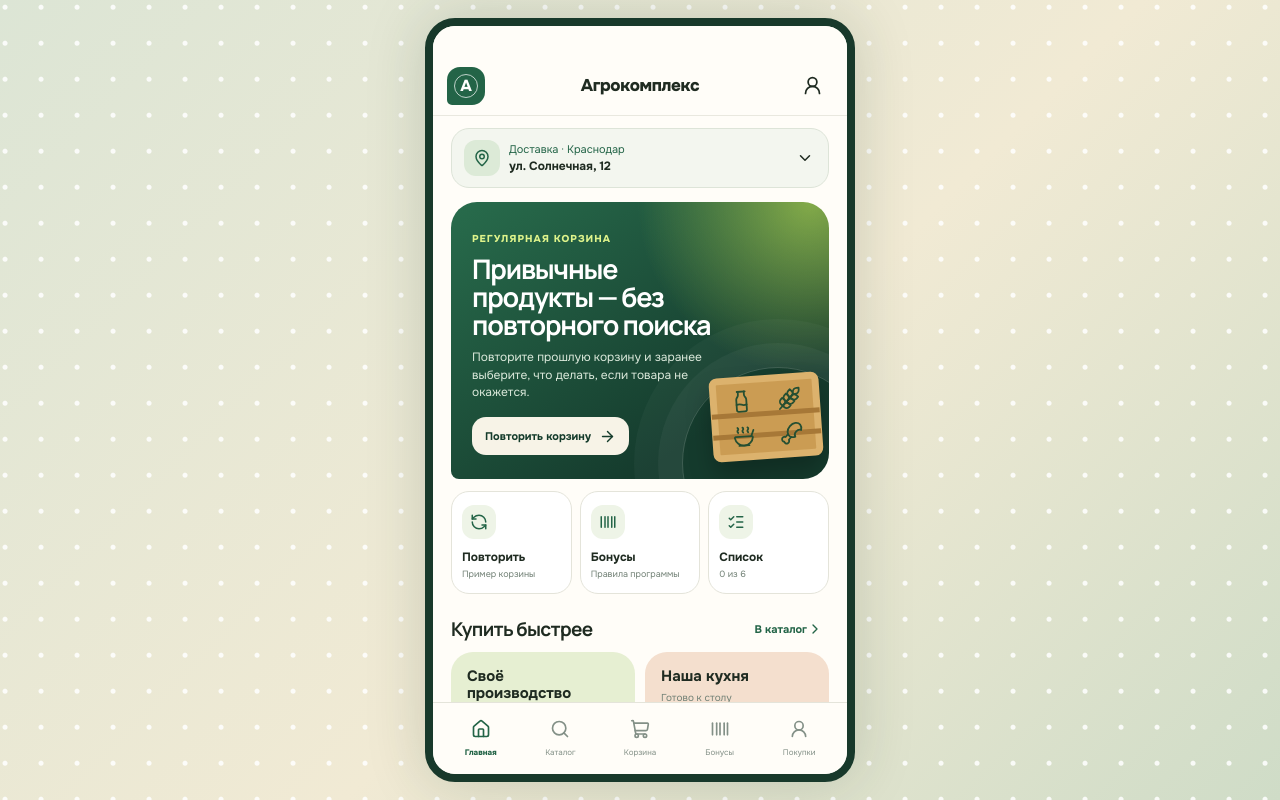
ключевые сценарии прототипа › открывает каталог после выбора контекста получения
The width and height of the screenshot is (1280, 800).
Click the text "ул. Солнечная, 12" at [560, 166], box top-left (509, 158), bottom-right (611, 174)
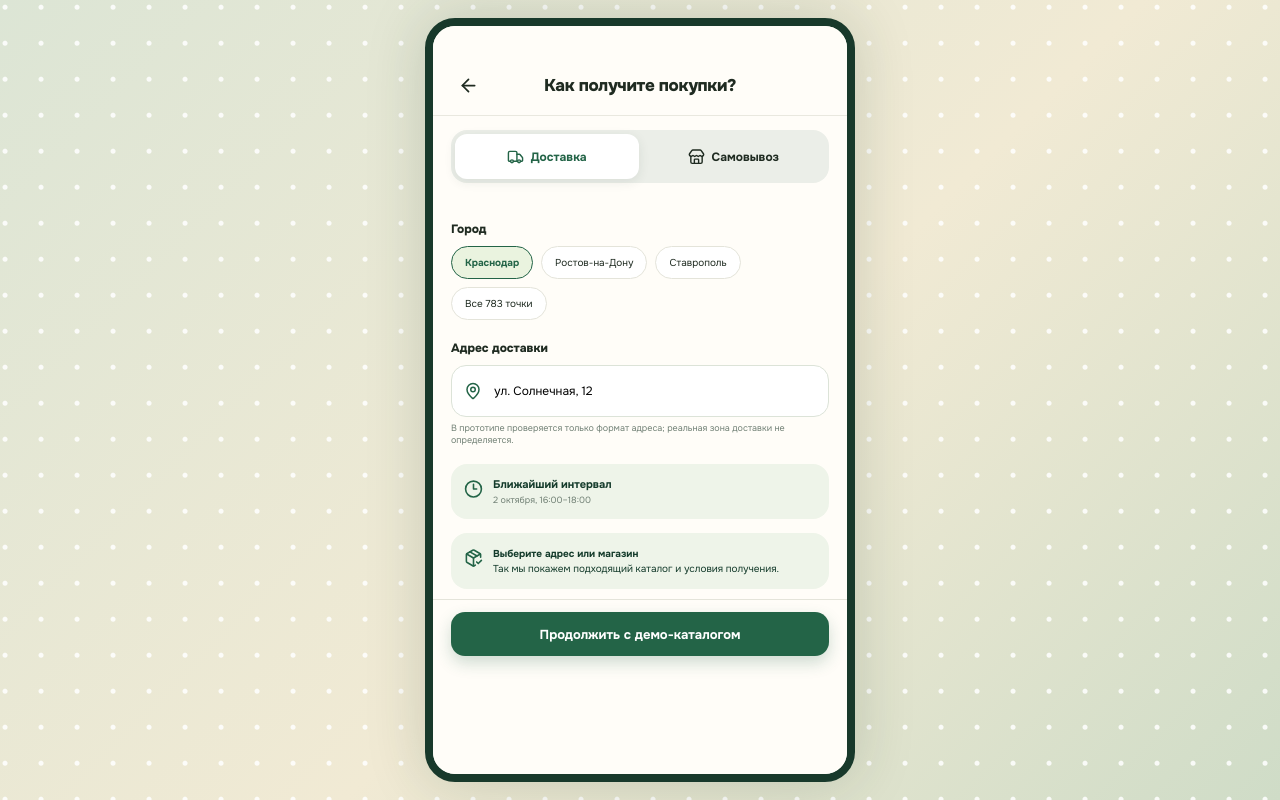
Click the button "Продолжить с демо-каталогом" at [640, 634], box top-left (451, 612), bottom-right (829, 656)
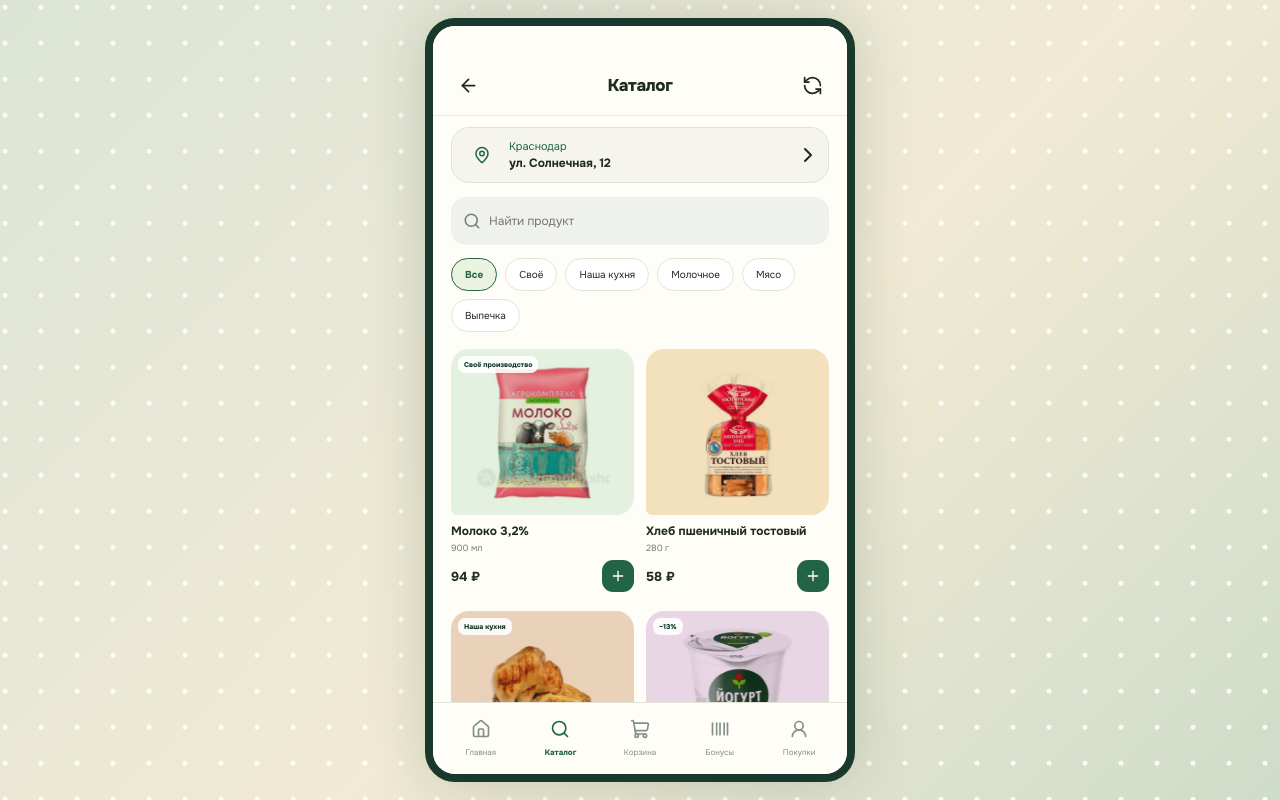
Now the heading "Каталог" is shown, box top-left (608, 75), bottom-right (672, 96)
